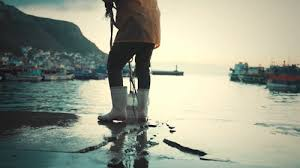Wet-floor: (11, 78, 300, 164)
